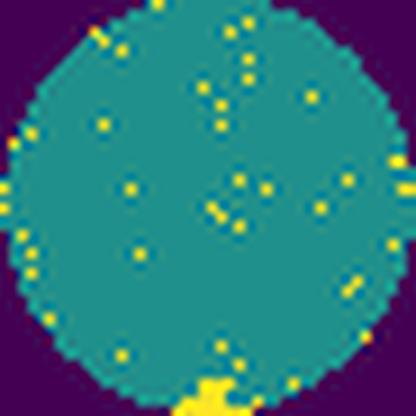Edge-Loc: (165, 369, 258, 416)
